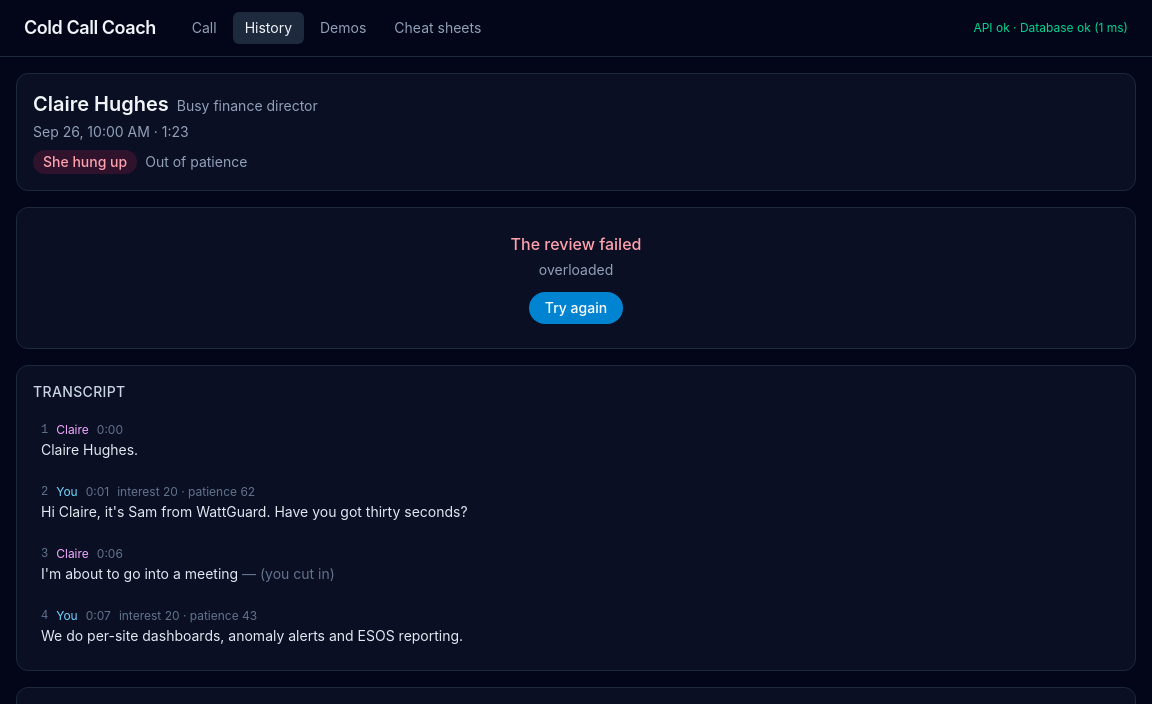
Test: ReviewPage › offers to rerun a failed review, and starts polling again
Expected: the text "The review failed" is shown, [511,234,641,254]
Expected: the text "overloaded" is shown, [539,261,613,278]
Click the button "Try again".
click(576, 308)  # box [529,292,623,324]
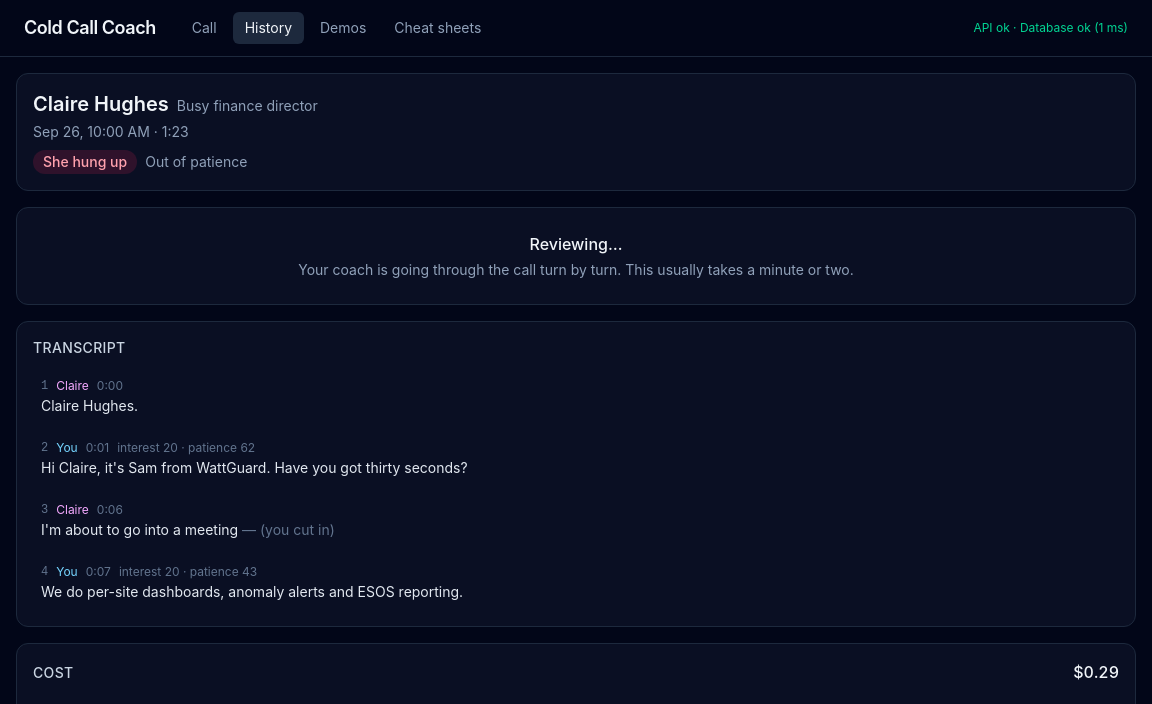
Result: the text "Reviewing…" is shown at [530,234,622,254]
